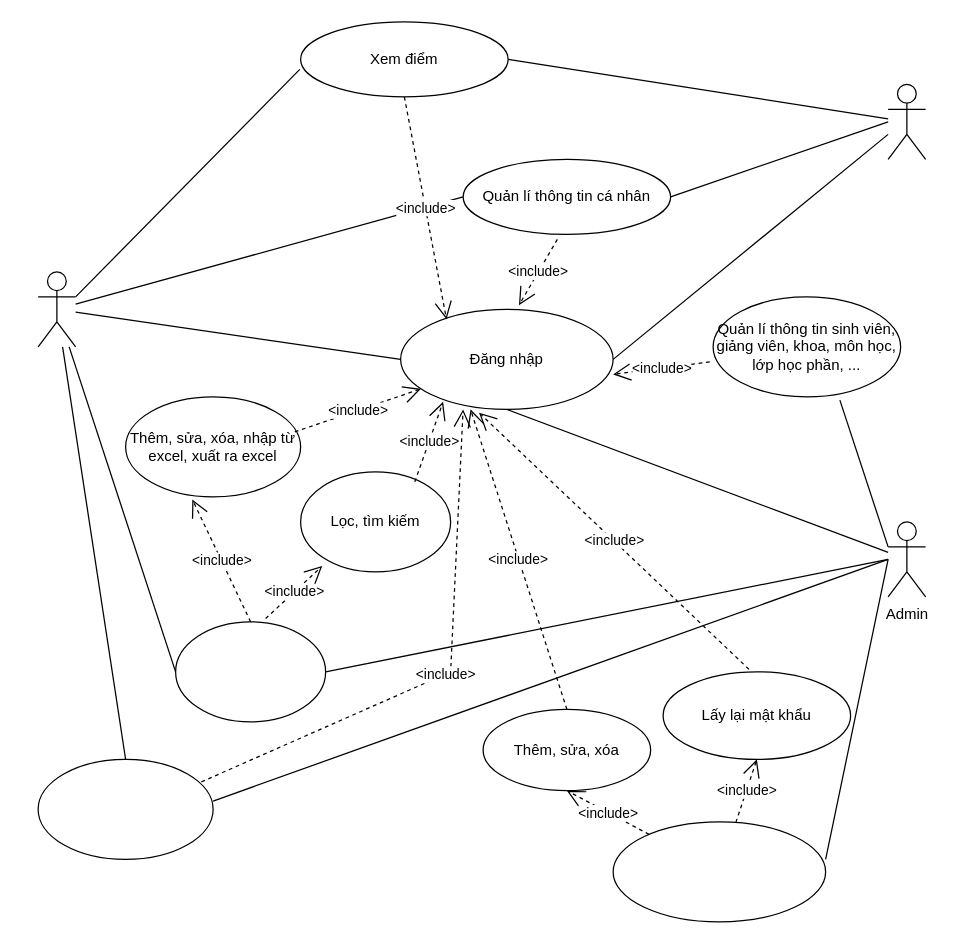
Image size: 959x944. Some labels were removed from this diagram. Each missing label, with the box of its shape:
Báo cáo thống kê: (37, 758, 213, 859)
Giảng viên: (37, 271, 76, 347)
Quản lí tài khoản: (612, 821, 826, 922)
Quản lí điểm: (174, 621, 326, 722)
Sinh viên: (887, 83, 926, 159)
